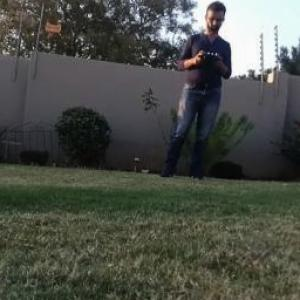follow: (151, 0, 236, 184)
